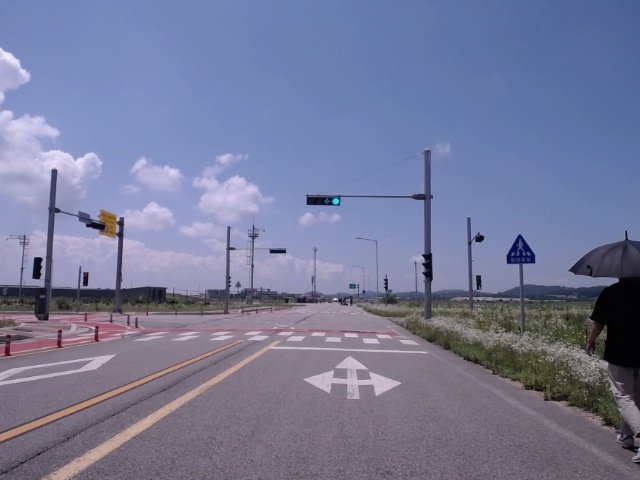all_green_4: (306, 194, 340, 207)
